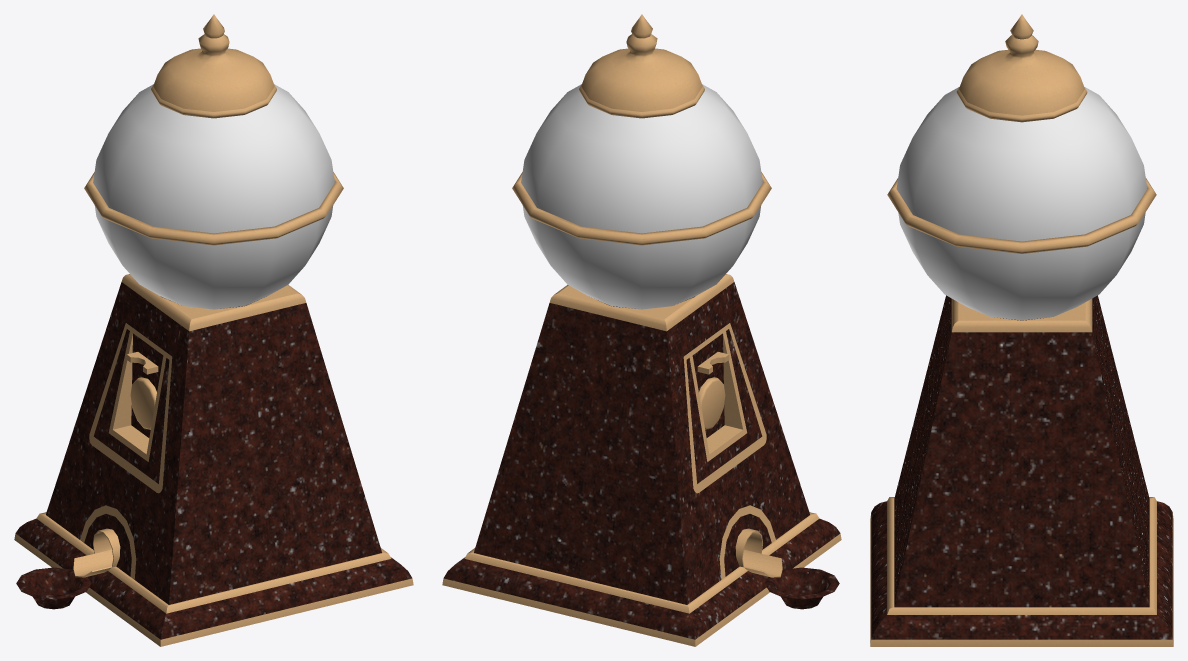
File: ball_machine.fbx
3 renders of one model, left to right at view 1: azimuth 30°, elevation 25°; view 2: azimuth 150°, elevation 25°; view 3: azimuth 270°, elevation 25°, orthographic. The views are drawn at different scales.
Parts seen in each view (by area): view 1: ball_machine, ball_machine.001; view 2: ball_machine, ball_machine.001; view 3: ball_machine, ball_machine.001.
Part boxes in pixels (box(x1,y1,x2,y2)): ball_machine: box(14, 14, 413, 646); ball_machine.001: box(93, 84, 334, 309); ball_machine: box(442, 14, 841, 646); ball_machine.001: box(521, 84, 762, 309); ball_machine: box(870, 14, 1173, 646); ball_machine.001: box(896, 87, 1147, 320).
Bounding box in the file's own units: 60.23 × 98.91 × 47.76.
